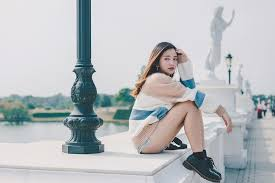people: (130, 42, 222, 182)
